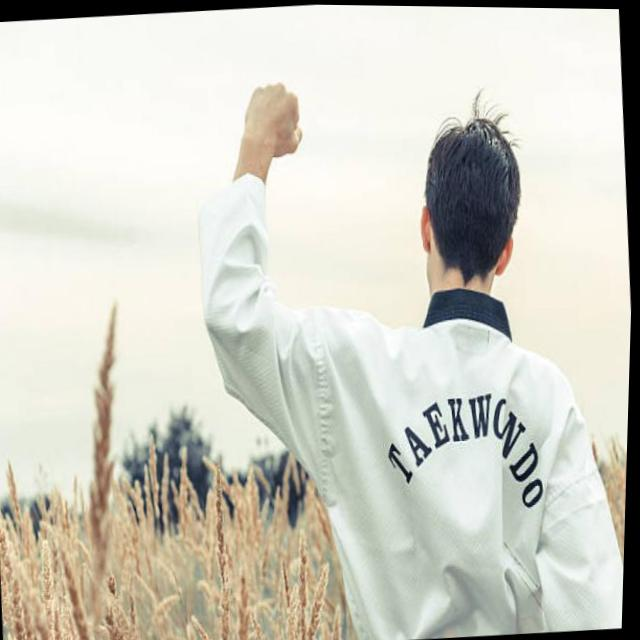no helmet: (411, 93, 530, 301)
